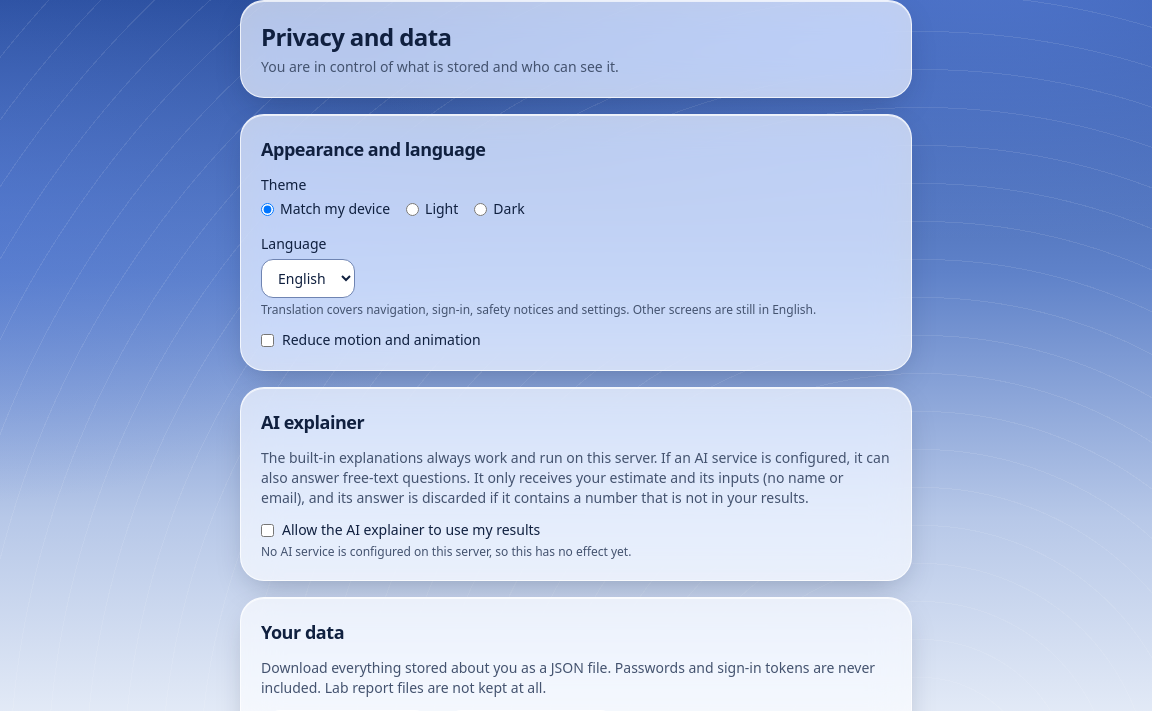
theme and language › applies the chosen theme and language to the page and remembers them
Click the radio button labelled "Dark". click: (481, 209)
box: [474,202,487,216]
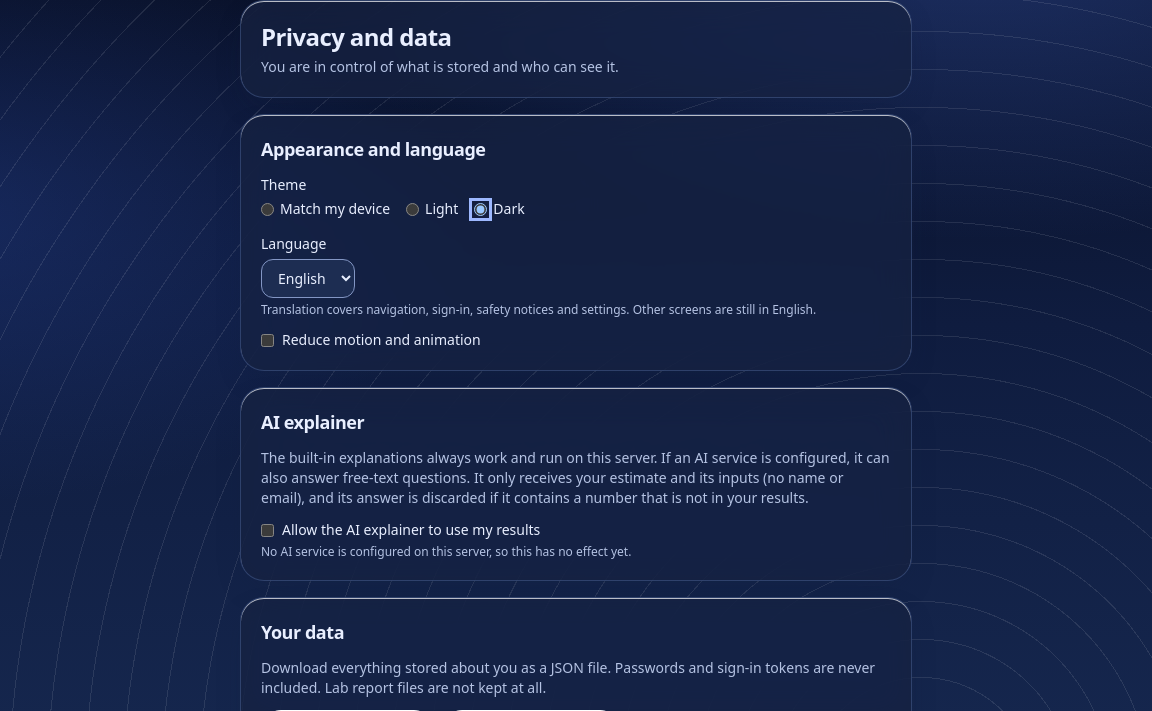
Select "हिन्दी" in the dropdown labelled "Language". click: (308, 278)
box: [261,259,355,298]
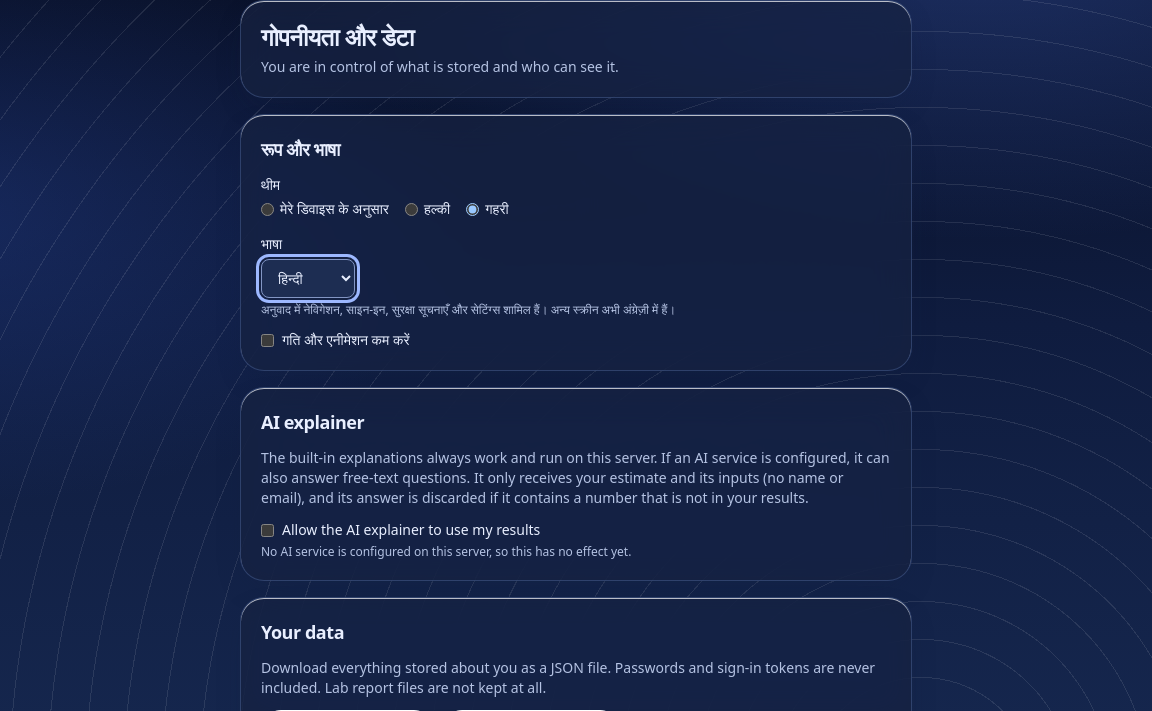
Now the heading "गोपनीयता और डेटा" is shown, box [261,20,414,53]
